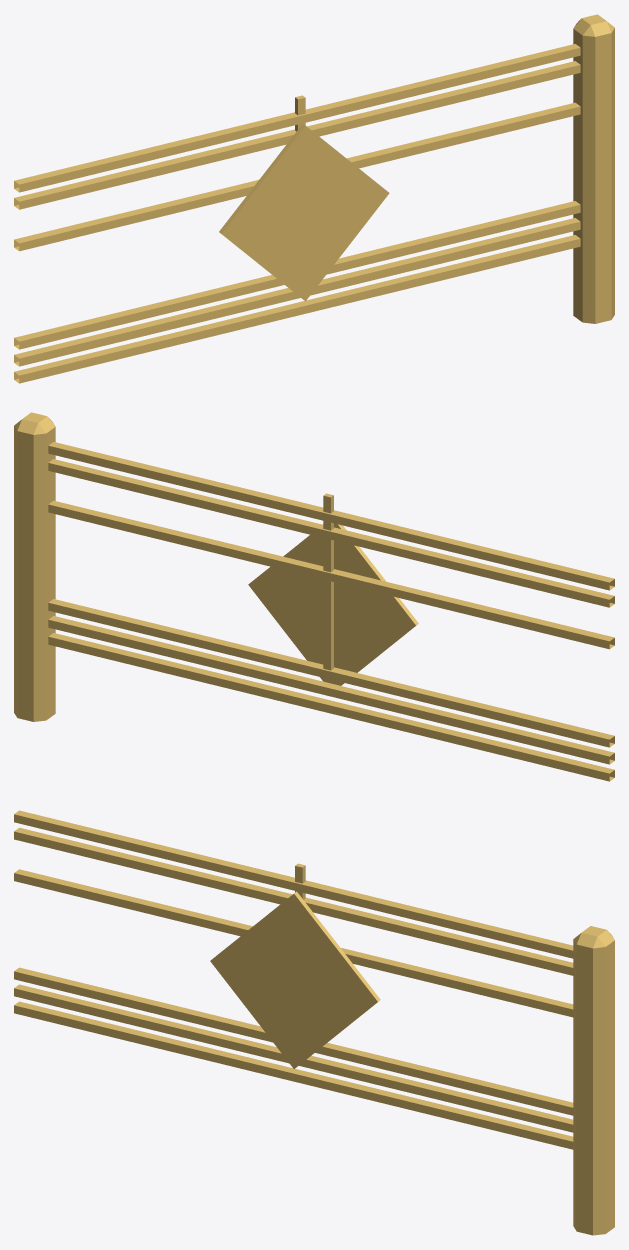
Rendered from Tower_Station_Fence_Art.glb.
The picture shows the model from 3 angles, top to bottom: view 1: azimuth 30°, elevation 25°; view 2: azimuth 150°, elevation 25°; view 3: azimuth 330°, elevation 25°; orthographic projection.
Parts seen in each view (by area): view 1: Tower_Station_Fence_Art; view 2: Tower_Station_Fence_Art; view 3: Tower_Station_Fence_Art.
Part boxes in pixels (left/top/right/bottom): Tower_Station_Fence_Art: left=14, top=14, right=614, bottom=383; Tower_Station_Fence_Art: left=14, top=412, right=614, bottom=781; Tower_Station_Fence_Art: left=14, top=810, right=614, bottom=1235.
Size of the model in its own units: 2.2 by 1.05 by 0.1198.
1 material, 1 textured.
